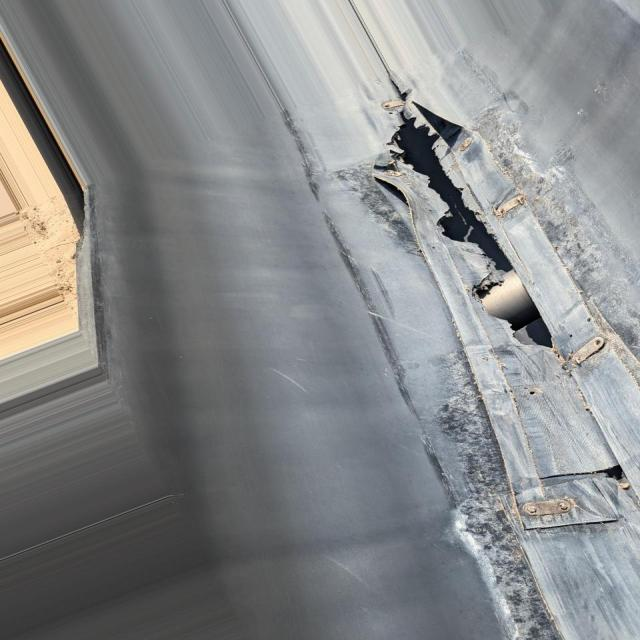Hole: (402, 128, 551, 342)
patch work: (391, 105, 640, 640)
